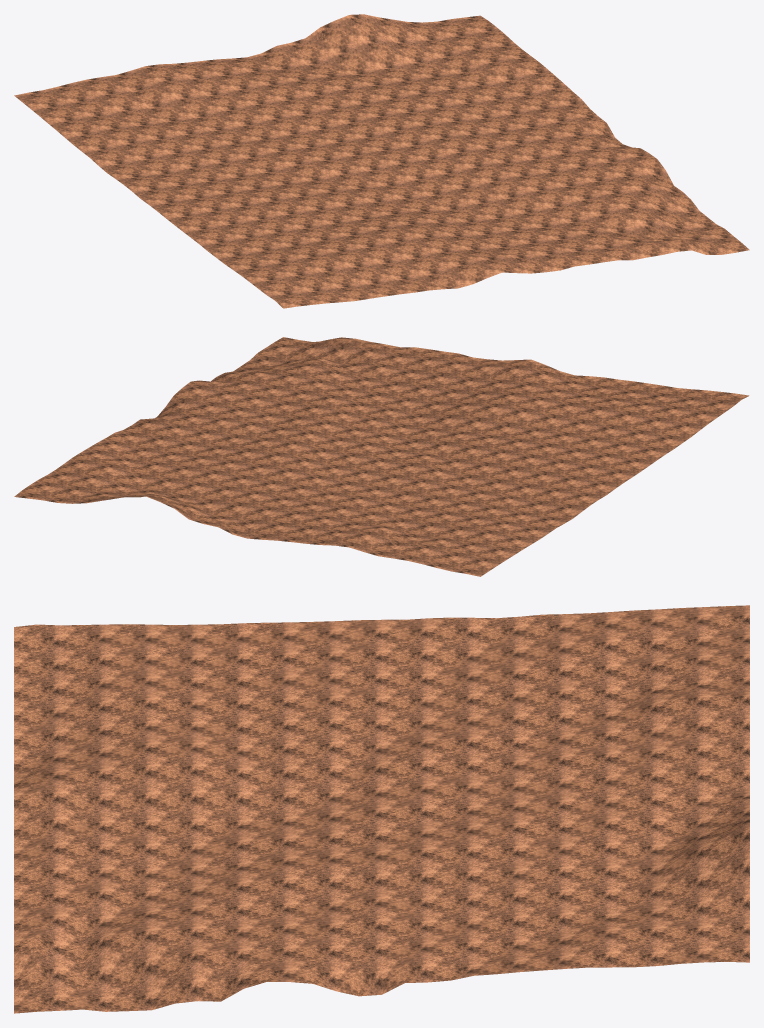
The model's file is terrain_08_13.dae.
3 renders of one model, top to bottom at view 1: azimuth 30°, elevation 25°; view 2: azimuth 150°, elevation 25°; view 3: azimuth 270°, elevation 25°, orthographic. The views are drawn at different scales.
Visible parts, largest first — view 1: terrain_08_13-node; view 2: terrain_08_13-node; view 3: terrain_08_13-node.
Part boxes in pixels (x1=…): terrain_08_13-node: x1=14, y1=14, x2=749, y2=308; terrain_08_13-node: x1=14, y1=337, x2=749, y2=576; terrain_08_13-node: x1=14, y1=605, x2=749, y2=1013.
Size of the model in its own units: 128 by 128 by 18.66.
Materials: 1 (1 with a texture image).
